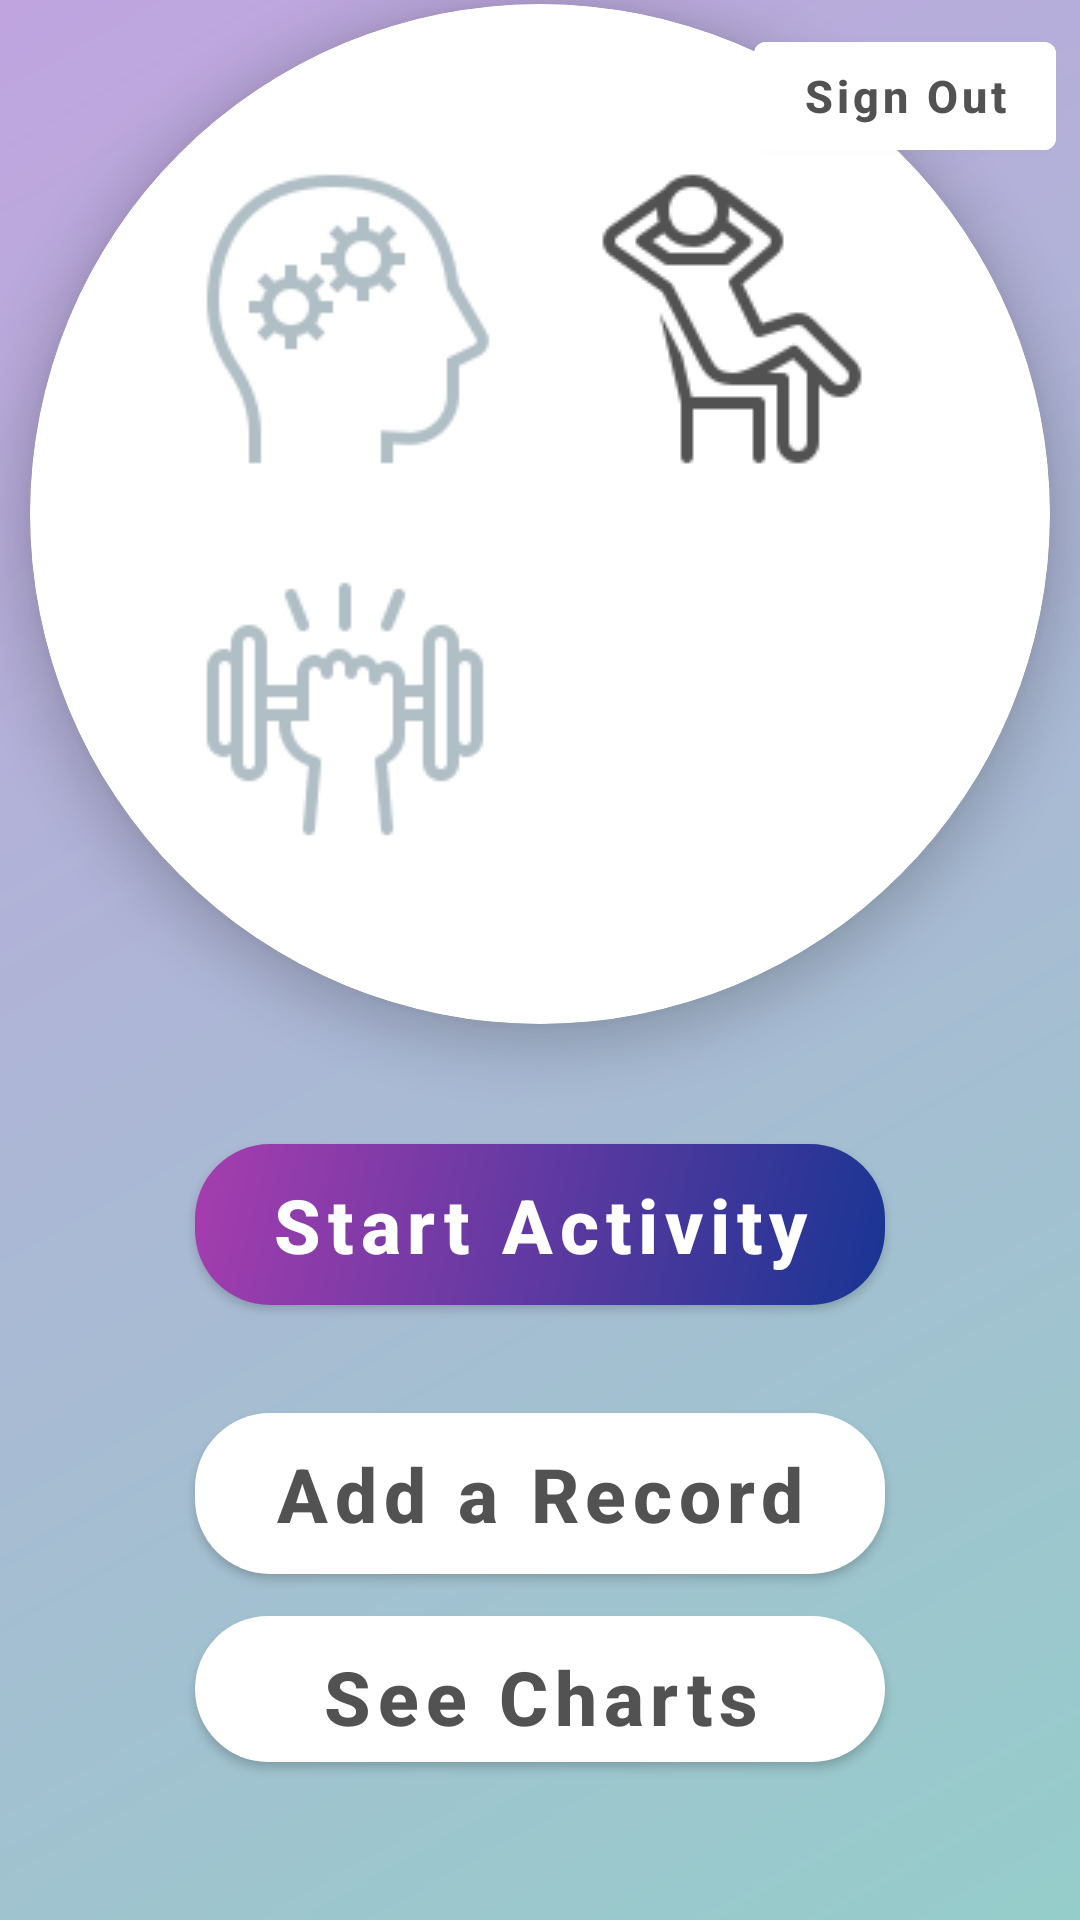

Icons on this 1080px×1920px Android screen, each with the point to tap as point (x, y):
activity sport: point (345, 709)
activity studying: point (347, 319)
